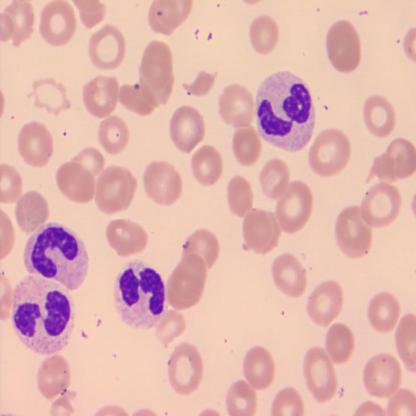Band Neutrophil: (9, 274, 77, 357), (254, 69, 316, 155), (23, 220, 93, 292), (110, 257, 172, 331)
